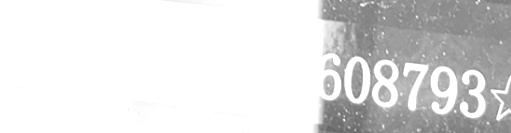letter: (456, 67, 489, 119), (312, 47, 343, 102), (256, 43, 288, 94), (285, 47, 315, 100), (202, 39, 233, 90), (342, 54, 373, 105), (428, 64, 459, 115), (401, 60, 430, 113), (370, 57, 400, 108), (98, 25, 128, 74), (124, 29, 154, 78), (21, 17, 49, 68), (47, 20, 75, 71), (230, 41, 259, 90), (73, 24, 101, 73), (152, 32, 180, 81), (178, 36, 205, 85)
